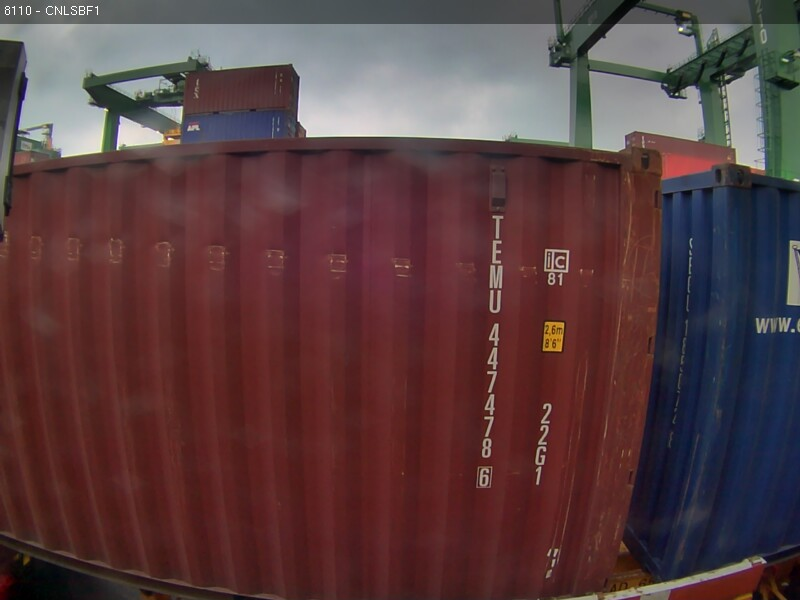container_no_door: (249, 135, 667, 536)
